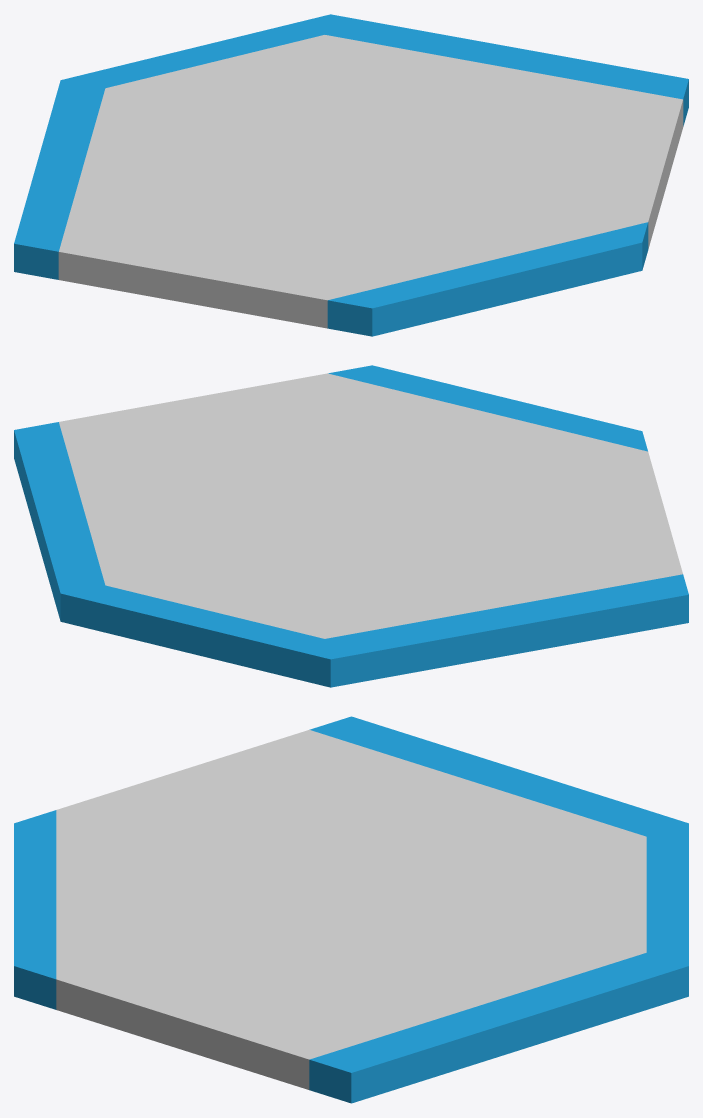
3 renders of one model, top to bottom at view 1: azimuth 30°, elevation 25°; view 2: azimuth 150°, elevation 25°; view 3: azimuth 270°, elevation 25°, orthographic. The views are drawn at different scales.
Parts seen in each view (by area): view 1: Hexagon, S, NW, NE, Nx; view 2: Hexagon, NW, Nx, NE, S; view 3: Hexagon, NE, NW, S, Nx.
Part boxes in pixels (<box>): Hexagon: <box>58,35,683,328</box>; S: <box>327,222,648,336</box>; NW: <box>14,80,105,279</box>; NE: <box>325,14,688,126</box>; Nx: <box>61,14,330,88</box>; Hexagon: <box>59,373,682,638</box>; NW: <box>325,574,688,687</box>; Nx: <box>60,585,330,687</box>; NE: <box>14,422,104,620</box>; S: <box>328,365,647,451</box>; Hexagon: <box>56,730,646,1089</box>; NE: <box>309,952,688,1103</box>; NW: <box>309,716,688,836</box>; S: <box>14,810,56,1009</box>; Nx: <box>646,823,688,965</box>.
Size of the model in its own units: 5 by 4 by 0.2.
